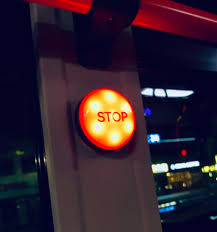bell: (76, 86, 138, 155)
